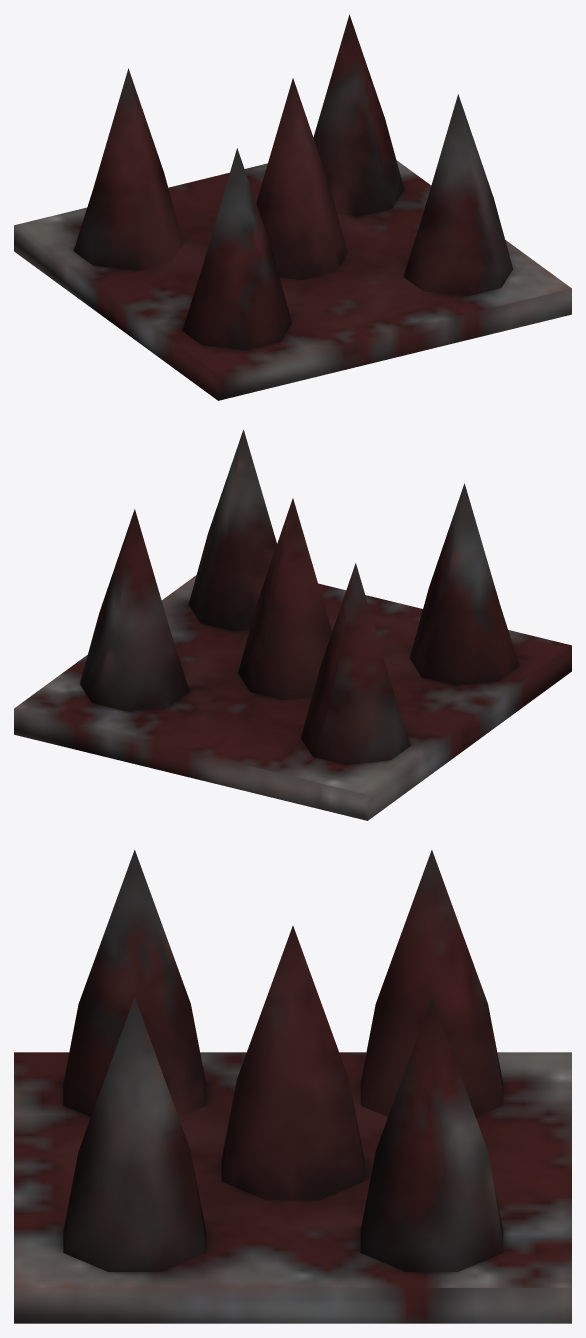
Rendered from SpikeBlock.fbx.
The picture shows the model from 3 angles, top to bottom: view 1: azimuth 30°, elevation 25°; view 2: azimuth 150°, elevation 25°; view 3: azimuth 270°, elevation 25°; orthographic projection. The views are drawn at different scales.
Visible parts, largest first — view 1: Cube.033; view 2: Cube.033; view 3: Cube.033.
Part boxes in pixels (x1,y1,x2,y2): Cube.033: (14, 14, 571, 400); Cube.033: (14, 429, 571, 820); Cube.033: (14, 850, 571, 1323).
Bounding box in the file's own units: 245 × 136 × 245.
